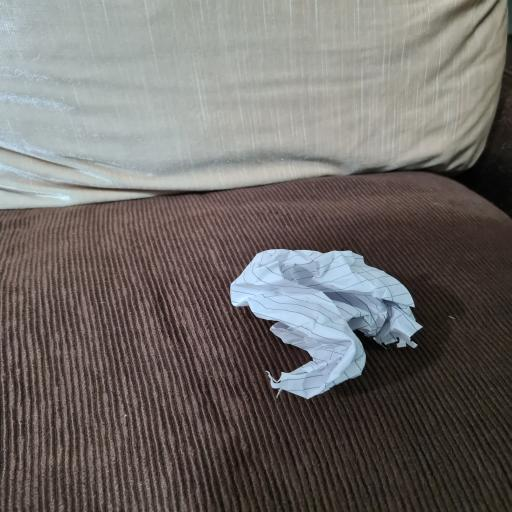Kertas: (231, 249, 421, 398)
